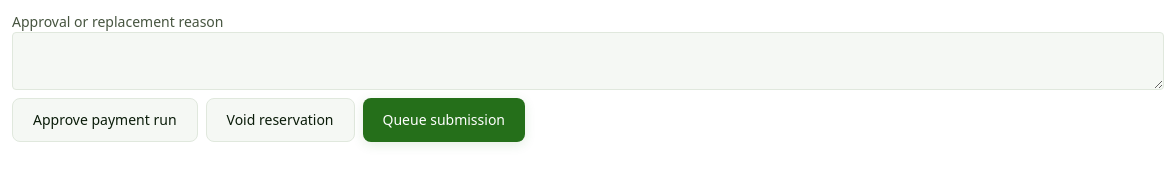
Test case: payout operator forms › labels queueing as queueing, without a paid confirmation
Type "Staff payment review" into the text box at (588, 61), box [12,32,1164,90]
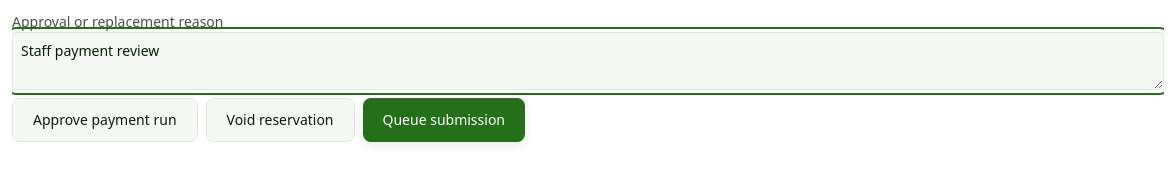
Click the button "Queue submission" at (444, 120), box [362,98,525,142]
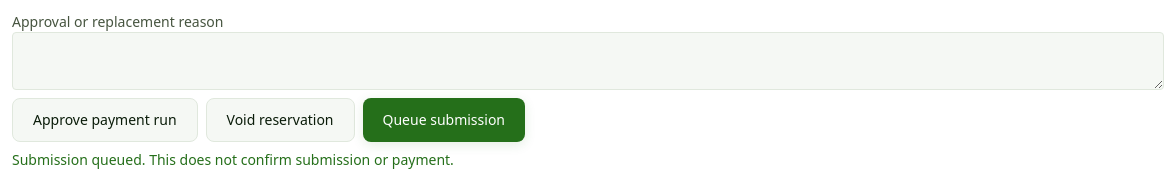
Expected: the message shows "does not confirm submission or payment", [12,150,454,169]
